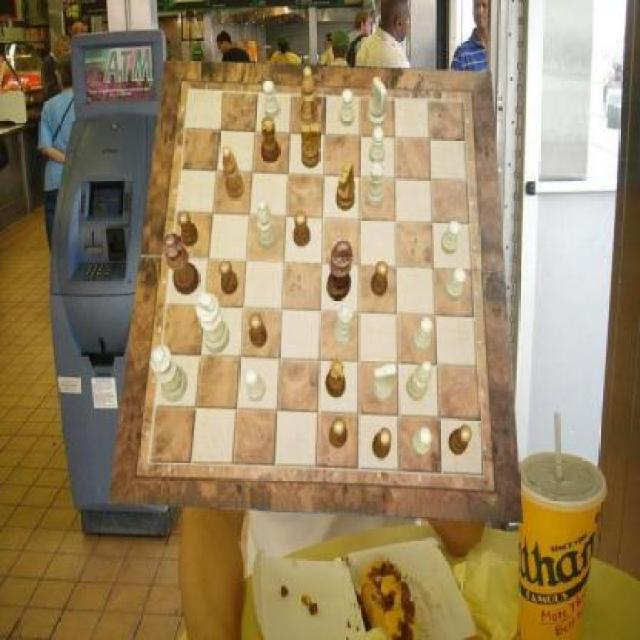bishop: (223, 146, 245, 200), (300, 68, 319, 126)
black-bishop: (328, 240, 354, 302)
black-king: (302, 123, 322, 169), (336, 162, 354, 210)
black-knight: (178, 211, 200, 247), (448, 424, 472, 456), (218, 260, 238, 295), (372, 428, 392, 460), (371, 262, 388, 298), (294, 211, 311, 247), (251, 312, 268, 347), (329, 417, 347, 448)
black-pawn: (162, 234, 200, 296)
black-queen: (262, 117, 280, 163), (326, 360, 346, 398)
black-rook: (406, 360, 432, 400), (257, 200, 277, 251)
white-bishop: (197, 291, 231, 353)
white-king: (368, 77, 388, 128), (372, 365, 396, 402)
white-knight: (244, 368, 266, 402), (412, 317, 433, 351), (445, 268, 467, 300), (442, 220, 462, 255), (263, 80, 280, 120), (338, 89, 354, 127), (371, 126, 386, 165), (412, 428, 432, 457)
white-pawn: (149, 345, 187, 402)
white-queen: (366, 160, 386, 206), (334, 303, 354, 345)
